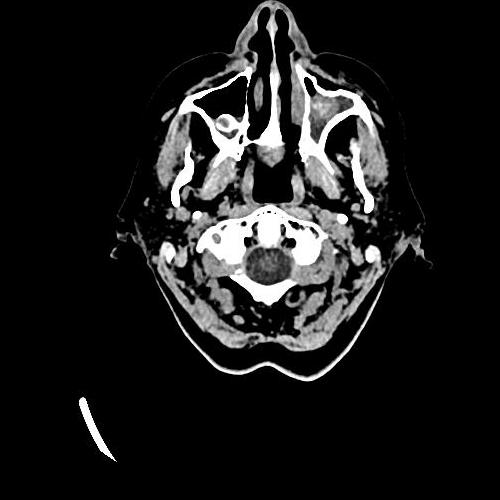Normal_Brain: (110, 1, 434, 389)
